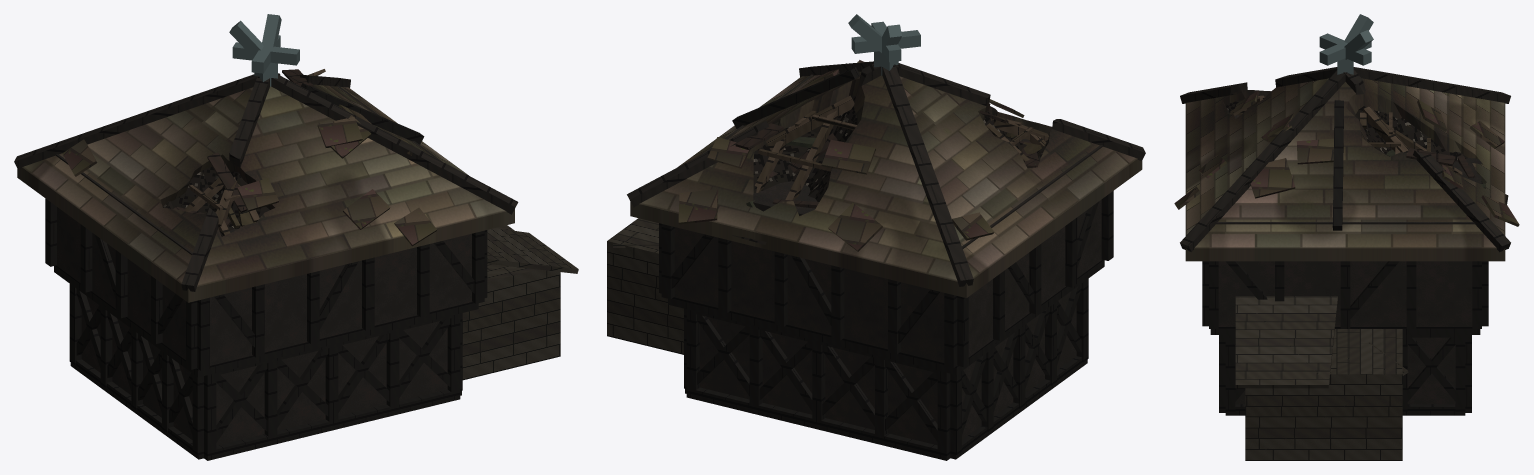
File: Arabuild01a.glb
The picture shows the model from 3 angles, left to right: view 1: azimuth 30°, elevation 25°; view 2: azimuth 150°, elevation 25°; view 3: azimuth 270°, elevation 25°; orthographic projection. The views are drawn at different scales.
Parts seen in each view (by area): view 1: Arabuild01a_rafter; view 2: Arabuild01a_rafter; view 3: Arabuild01a_rafter.
Part boxes in pixels (x1,y1,x2,y2): Arabuild01a_rafter: (14, 14, 578, 460); Arabuild01a_rafter: (607, 14, 1145, 460); Arabuild01a_rafter: (1174, 14, 1519, 460).
Bounding box in the file's own units: 9.57 × 7.67 × 7.24.
14 materials, 13 textured.
